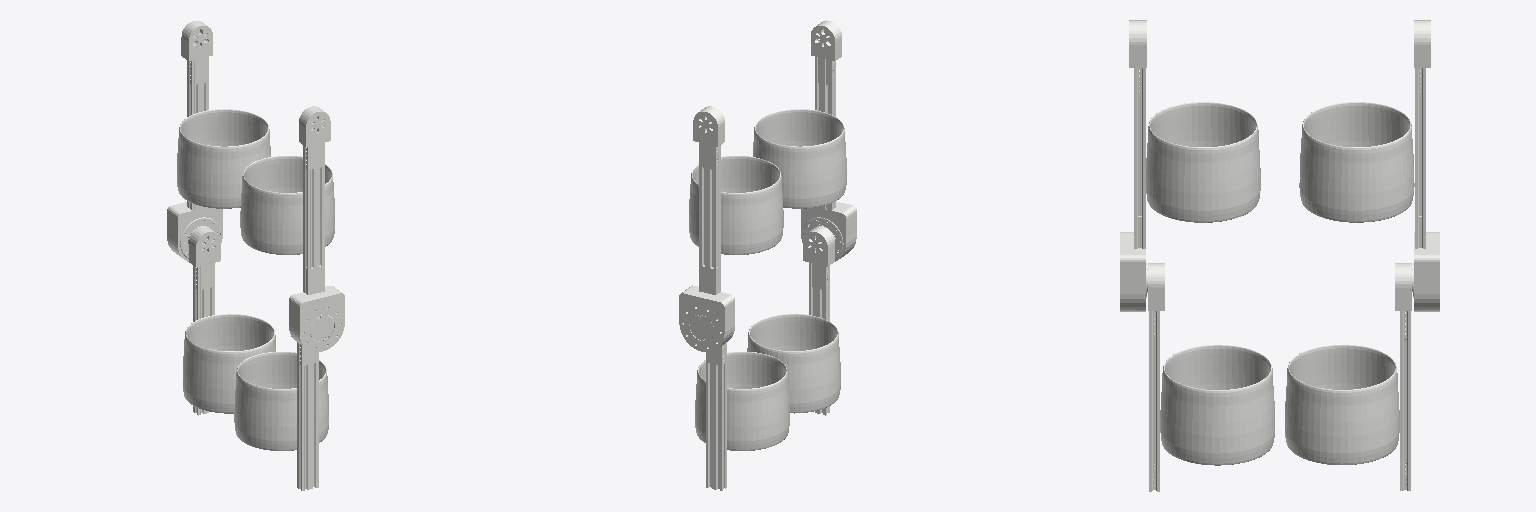
The robot description file, URDF, robot "Exoskeleton_Assembly_urdf":
<?xml version="1.0" encoding="utf-8"?>
<!-- This URDF was automatically created by SolidWorks to URDF Exporter! Originally created by Stephen Brawner (brawner@gmail.com) 
     Commit Version: 1.6.0-4-g7f85cfe  Build Version: 1.6.7995.38578
     For more information, please see http://wiki.ros.org/sw_urdf_exporter -->
<robot
  name="Exoskeleton_Assembly_urdf">
  <link
    name="base_link">
    <inertial>
      <origin
        xyz="-0.027634 0.018512 0.015733"
        rpy="0 0 0" />
      <mass
        value="2.5953" />
      <inertia
        ixx="0.014094"
        ixy="-2.1768E-05"
        ixz="8.9157E-09"
        iyy="0.007423"
        iyz="4.6457E-08"
        izz="0.016086" />
    </inertial>
    <visual>
      <origin
        xyz="0 0 0"
        rpy="0 0 0" />
      <geometry>
        <mesh
          filename="package://Exoskeleton_Assembly_urdf/meshes/base_link.STL" />
      </geometry>
      <material
        name="">
        <color
          rgba="0.098039 0.098039 0.098039 1" />
      </material>
    </visual>
    <collision>
      <origin
        xyz="0 0 0"
        rpy="0 0 0" />
      <geometry>
        <mesh
          filename="package://Exoskeleton_Assembly_urdf/meshes/base_link.STL" />
      </geometry>
    </collision>
  </link>
  <link
    name="right_thigh">
    <inertial>
      <origin
        xyz="8.0718E-05 0.02689 -0.28057"
        rpy="0 0 0" />
      <mass
        value="1.0471" />
      <inertia
        ixx="0.0045052"
        ixy="1.6061E-08"
        ixz="-6.8701E-07"
        iyy="0.0048803"
        iyz="-4.551E-05"
        izz="0.0045452" />
    </inertial>
    <visual>
      <origin
        xyz="0 0 0"
        rpy="0 0 0" />
      <geometry>
        <mesh
          filename="package://Exoskeleton_Assembly_urdf/meshes/right_thigh.STL" />
      </geometry>
      <material
        name="">
        <color
          rgba="0.96471 0.96471 0.95294 1" />
      </material>
    </visual>
    <collision>
      <origin
        xyz="0 0 0"
        rpy="0 0 0" />
      <geometry>
        <mesh
          filename="package://Exoskeleton_Assembly_urdf/meshes/right_thigh.STL" />
      </geometry>
    </collision>
  </link>
  <joint
    name="right_hip_joint"
    type="revolute">
    <origin
      xyz="0.054114 -0.21135 -0.082367"
      rpy="0 0 0" />
    <parent
      link="base_link" />
    <child
      link="right_thigh" />
    <axis
      xyz="0 -1 0" />
    <limit
      lower="-1.0472"
      upper="1.57"
      effort="300"
      velocity="12.56" />
  </joint>
  <link
    name="right_shank">
    <inertial>
      <origin
        xyz="0.00012029 0.085772 -0.19514"
        rpy="0 0 0" />
      <mass
        value="0.68028" />
      <inertia
        ixx="0.0038839"
        ixy="-2.2537E-09"
        ixz="-7.3385E-07"
        iyy="0.003922"
        iyz="-4.3787E-06"
        izz="0.0040903" />
    </inertial>
    <visual>
      <origin
        xyz="0 0 0"
        rpy="0 0 0" />
      <geometry>
        <mesh
          filename="package://Exoskeleton_Assembly_urdf/meshes/right_shank.STL" />
      </geometry>
      <material
        name="">
        <color
          rgba="0.96471 0.96471 0.95294 1" />
      </material>
    </visual>
    <collision>
      <origin
        xyz="0 0 0"
        rpy="0 0 0" />
      <geometry>
        <mesh
          filename="package://Exoskeleton_Assembly_urdf/meshes/right_shank.STL" />
      </geometry>
    </collision>
  </link>
  <joint
    name="right_knee_joint"
    type="revolute">
    <origin
      xyz="0 -0.0035 -0.465"
      rpy="0 0 0" />
    <parent
      link="right_thigh" />
    <child
      link="right_shank" />
    <axis
      xyz="0 1 0" />
    <limit
      lower="0"
      upper="2.0944"
      effort="200"
      velocity="12.56" />
  </joint>
  <link
    name="left_thigh">
    <inertial>
      <origin
        xyz="-0.00021719 -0.02703 -0.28056"
        rpy="0 0 0" />
      <mass
        value="1.0471" />
      <inertia
        ixx="0.0045052"
        ixy="-2.3619E-08"
        ixz="6.8962E-07"
        iyy="0.0048803"
        iyz="4.5499E-05"
        izz="0.0045452" />
    </inertial>
    <visual>
      <origin
        xyz="0 0 0"
        rpy="0 0 0" />
      <geometry>
        <mesh
          filename="package://Exoskeleton_Assembly_urdf/meshes/left_thigh.STL" />
      </geometry>
      <material
        name="">
        <color
          rgba="0.96471 0.96471 0.95294 1" />
      </material>
    </visual>
    <collision>
      <origin
        xyz="0 0 0"
        rpy="0 0 0" />
      <geometry>
        <mesh
          filename="package://Exoskeleton_Assembly_urdf/meshes/left_thigh.STL" />
      </geometry>
    </collision>
  </link>
  <joint
    name="left_hip_joint"
    type="revolute">
    <origin
      xyz="0.054114 0.24688 -0.082367"
      rpy="0 0 0" />
    <parent
      link="base_link" />
    <child
      link="left_thigh" />
    <axis
      xyz="0 1 0" />
    <limit
      lower="-1.57"
      upper="1.0472"
      effort="300"
      velocity="12.56" />
  </joint>
  <link
    name="left_shank">
    <inertial>
      <origin
        xyz="-0.00015288 -0.085744 -0.19515"
        rpy="0 0 0" />
      <mass
        value="0.67979" />
      <inertia
        ixx="0.0038839"
        ixy="-2.2537E-09"
        ixz="7.3385E-07"
        iyy="0.003922"
        iyz="4.3787E-06"
        izz="0.0040903" />
    </inertial>
    <visual>
      <origin
        xyz="0 0 0"
        rpy="0 0 0" />
      <geometry>
        <mesh
          filename="package://Exoskeleton_Assembly_urdf/meshes/left_shank.STL" />
      </geometry>
      <material
        name="">
        <color
          rgba="0.96471 0.96471 0.95294 1" />
      </material>
    </visual>
    <collision>
      <origin
        xyz="0 0 0"
        rpy="0 0 0" />
      <geometry>
        <mesh
          filename="package://Exoskeleton_Assembly_urdf/meshes/left_shank.STL" />
      </geometry>
    </collision>
  </link>
  <joint
    name="left_knee_joint"
    type="revolute">
    <origin
      xyz="-0.0004 0.0031 -0.465"
      rpy="0 0 0" />
    <parent
      link="left_thigh" />
    <child
      link="left_shank" />
    <axis
      xyz="0 -1 0" />
    <limit
      lower="-2.0944"
      upper="0"
      effort="200"
      velocity="12.56" />
  </joint>
</robot>

--- What the picture shows (computed from the rendered views, not written in the file) ---
The picture shows the robot from 3 angles, left to right: view 1: azimuth 30°, elevation 25°; view 2: azimuth 150°, elevation 25°; view 3: azimuth 270°, elevation 25°; orthographic projection.
Robot: Exoskeleton_Assembly_urdf — 5 links, 4 joints (4 revolute); root link base_link; default pose: every joint at zero.
Visible links, largest first — view 1: right_thigh, left_thigh, right_shank, left_shank; view 2: left_thigh, right_thigh, left_shank, right_shank; view 3: right_thigh, left_thigh, right_shank, left_shank.
Boxes of the visible links, box(x1,y1,x2,y2) form: right_thigh: box(240, 106, 344, 351); left_thigh: box(167, 20, 270, 261); right_shank: box(234, 336, 328, 490); left_shank: box(183, 226, 275, 415); left_thigh: box(679, 106, 783, 351); right_thigh: box(753, 20, 856, 261); left_shank: box(695, 336, 789, 490); right_shank: box(747, 226, 840, 415); right_thigh: box(1120, 20, 1260, 311); left_thigh: box(1299, 20, 1439, 311); right_shank: box(1148, 263, 1274, 491); left_shank: box(1285, 263, 1411, 490).
Size in the robot's own frame: 0.2007 by 0.5568 by 0.8898 metres.
Meshes: 5 distinct files referenced, 4 mesh visuals loaded (4 binary STL); not drawn: 1 (reference not matched to a file when rendering).
